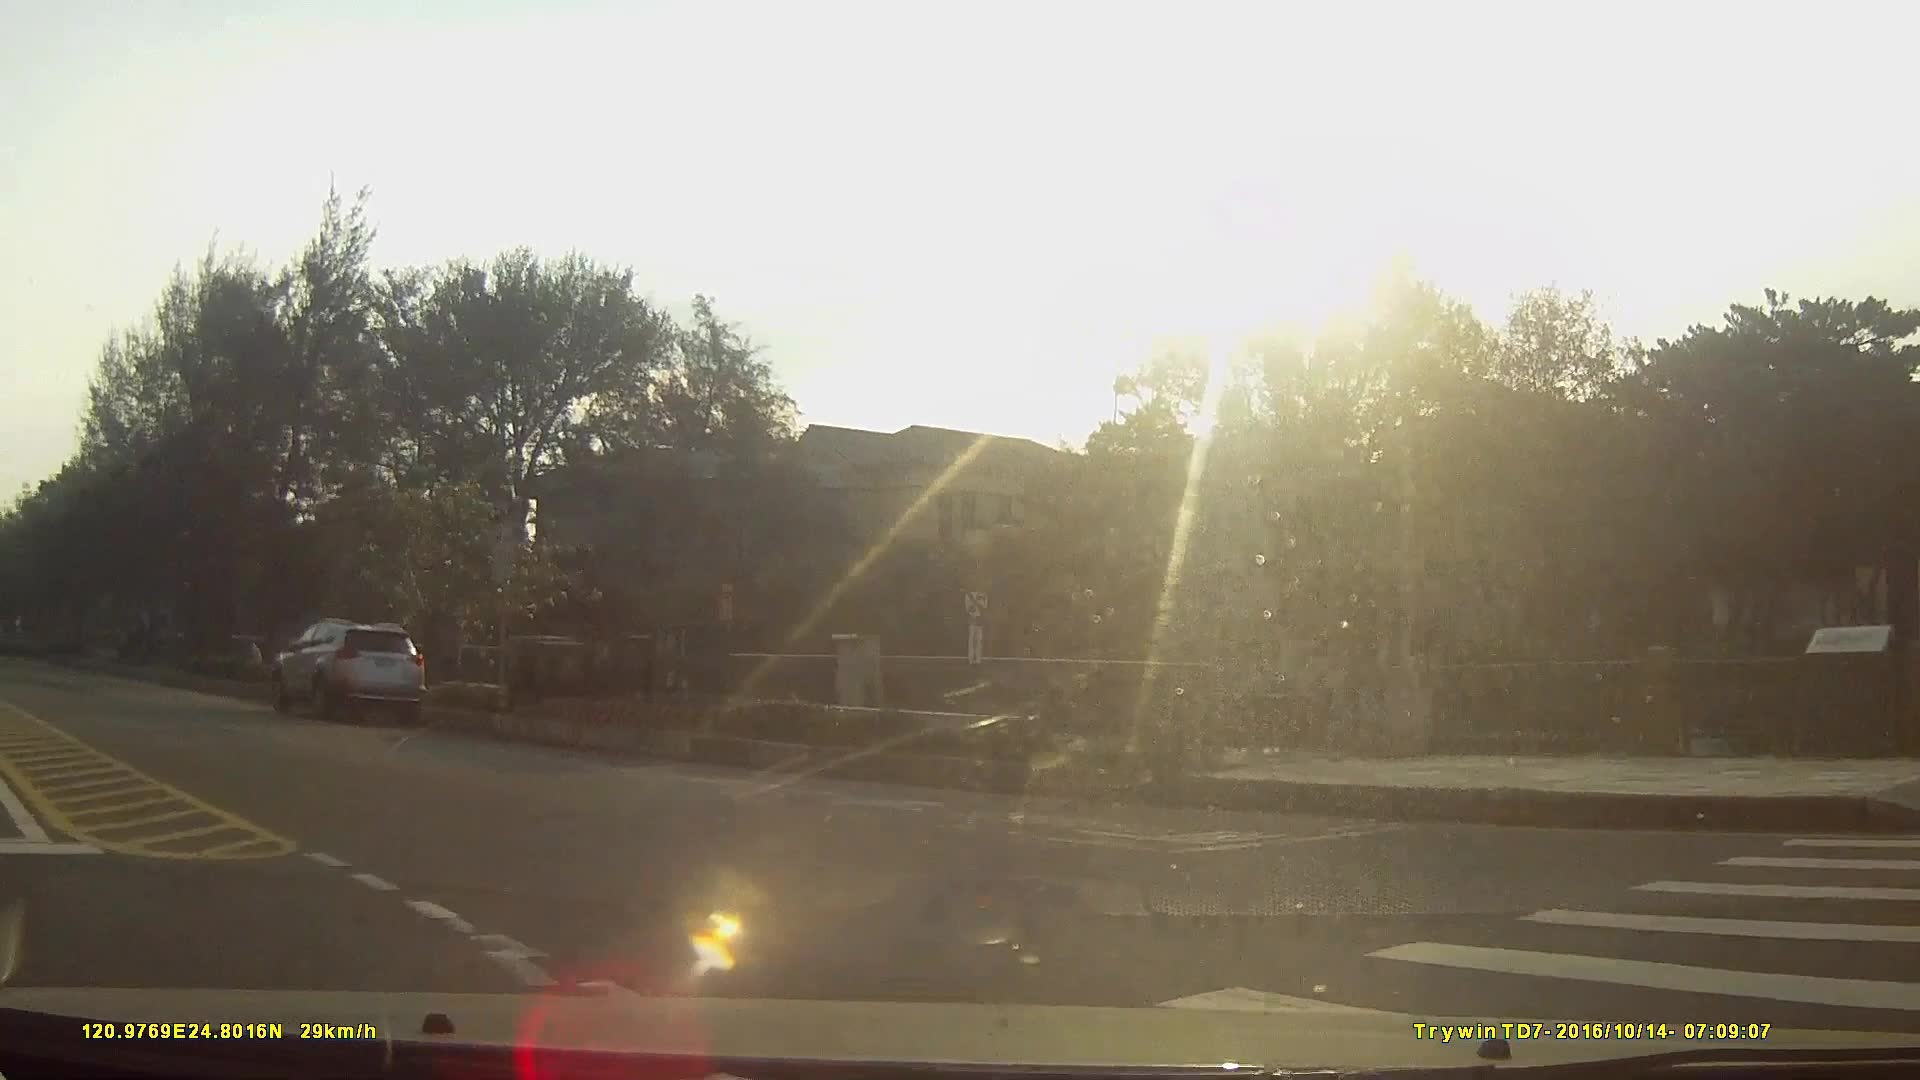vehicle: (270, 618, 423, 729)
